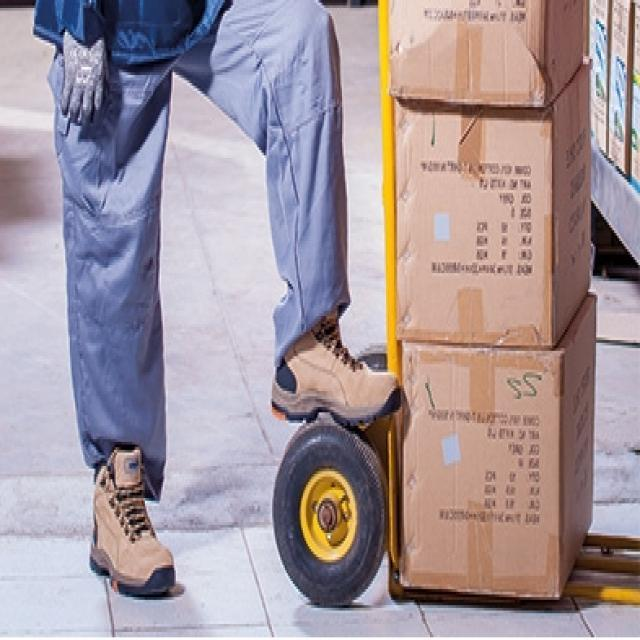boots: (86, 298, 405, 602)
